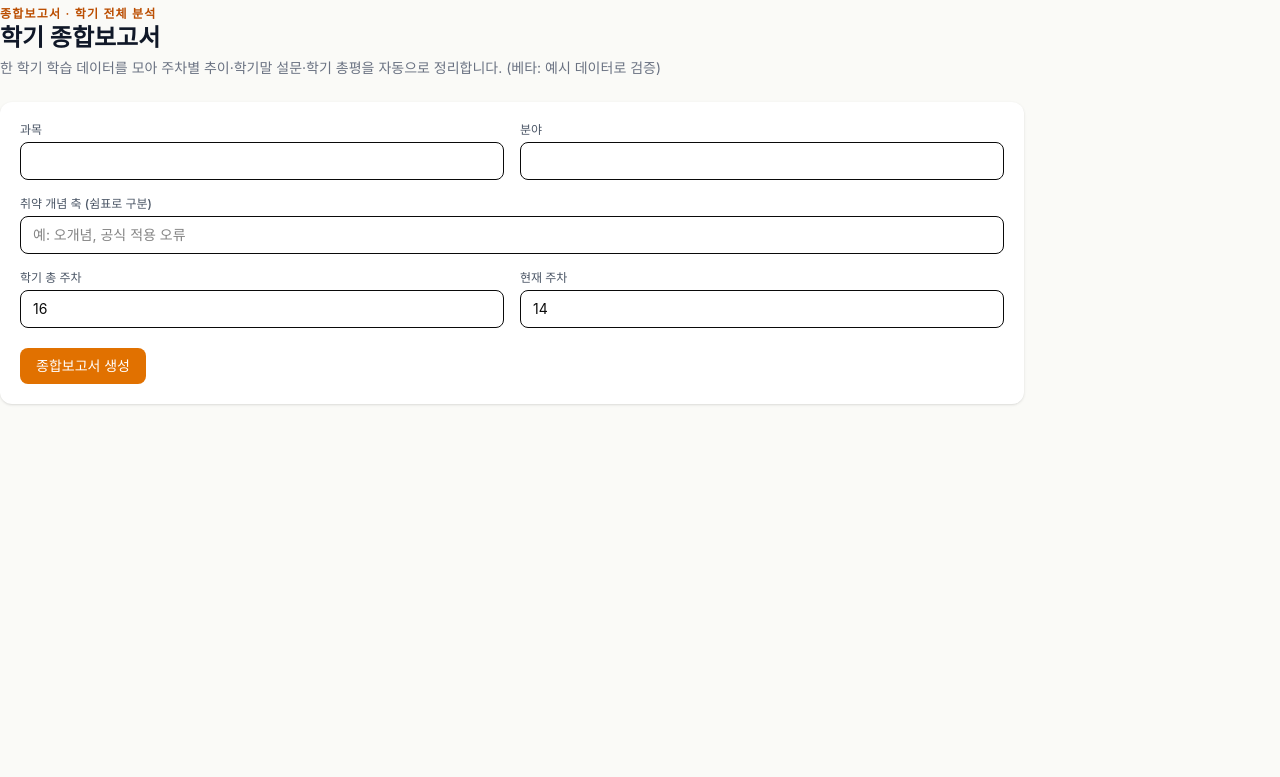
Scenario: ComprehensiveReportPage › generates and renders trend + survey + review
In the field labelled "과목": (262, 161) [20,142,504,180], type "유체역학"
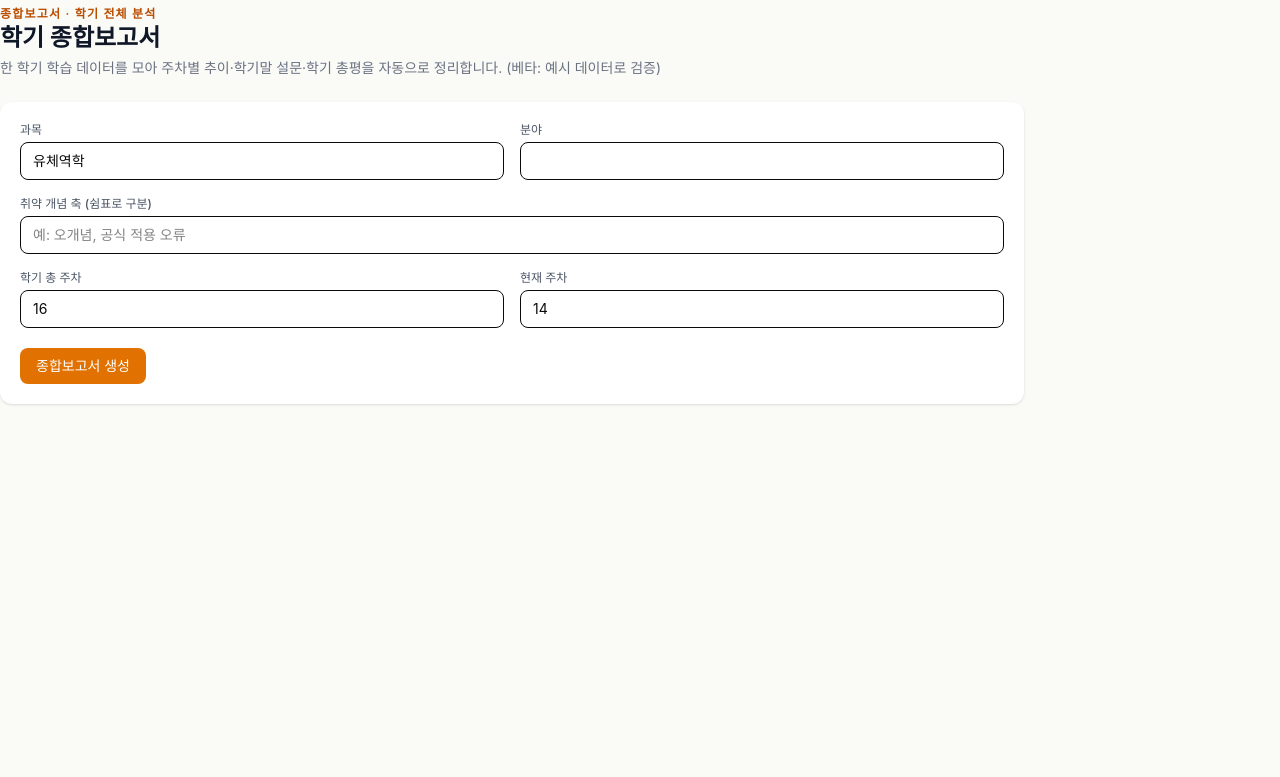
In the field labelled "분야": (762, 161) [520,142,1004,180], type "공학"
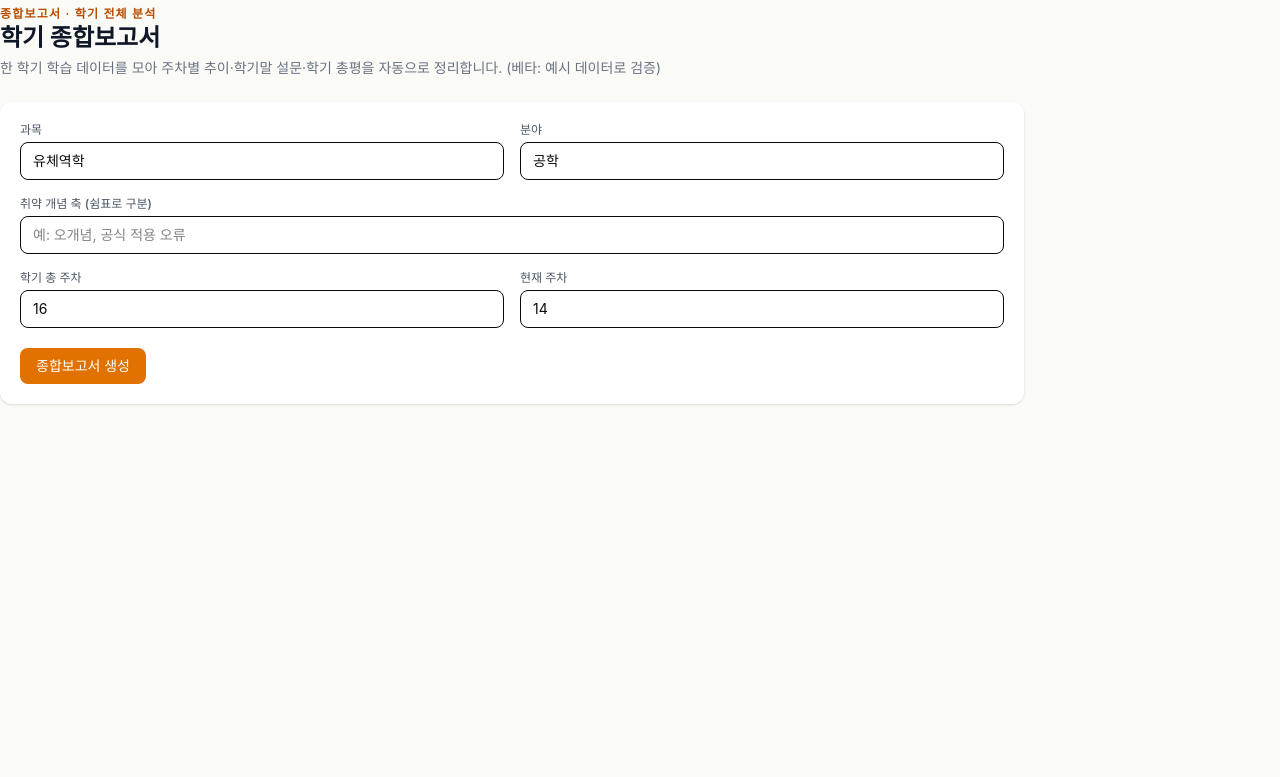
In the field labelled "취약 개념 축 (쉼표로 구분)": (512, 235) [20,216,1004,254], type "오개념, 공식 적용 오류"
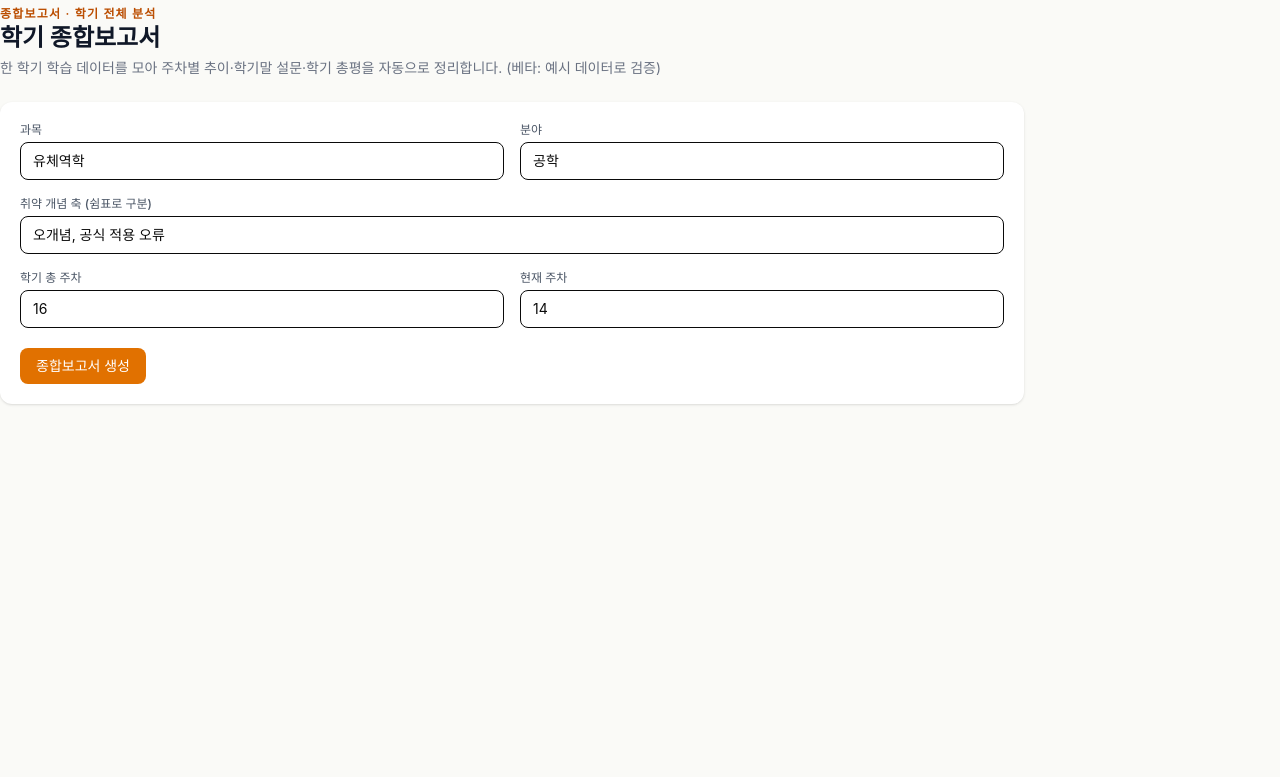
Click the button "종합보고서 생성": (83, 366) [20,348,146,384]
(page scrolled)
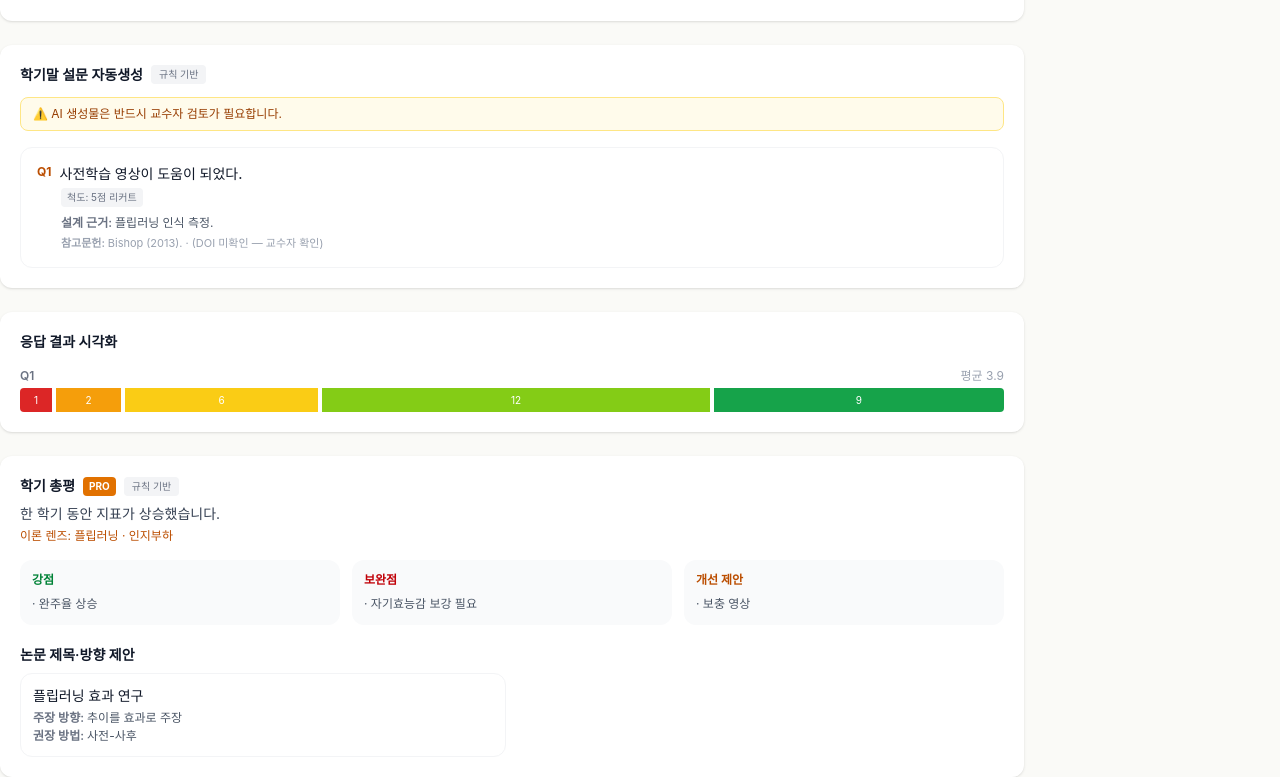
Result: the text "한 학기 동안 지표가 상승했습니다." is shown at [20,505,220,522]
Result: the text "⚠️ AI 생성물은 반드시 교수자 검토가 필요합니다." is shown at [20,96,1004,130]
Result: the text "플립러닝 효과 연구" is shown at [33,686,144,704]
